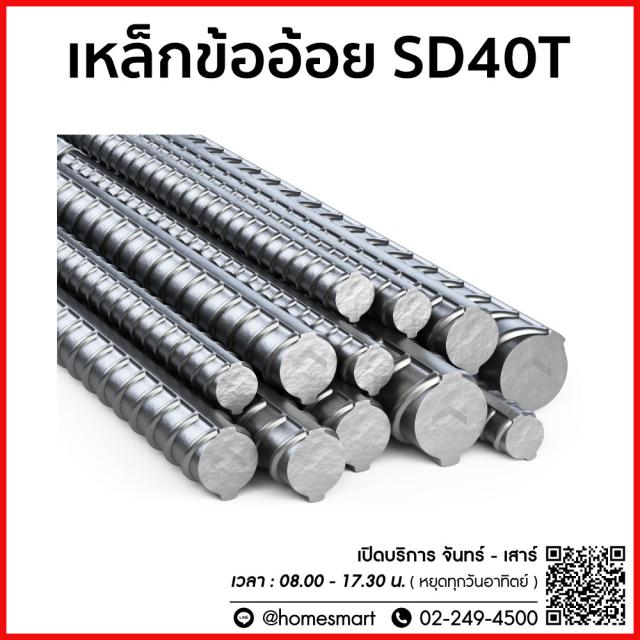Rebar: (415, 374, 481, 472), (194, 424, 263, 510), (502, 330, 570, 413), (280, 427, 346, 512), (278, 332, 340, 408), (448, 304, 501, 377), (343, 400, 388, 473), (503, 408, 550, 465), (333, 270, 377, 327), (390, 286, 435, 340), (216, 363, 260, 418), (354, 344, 395, 397)
